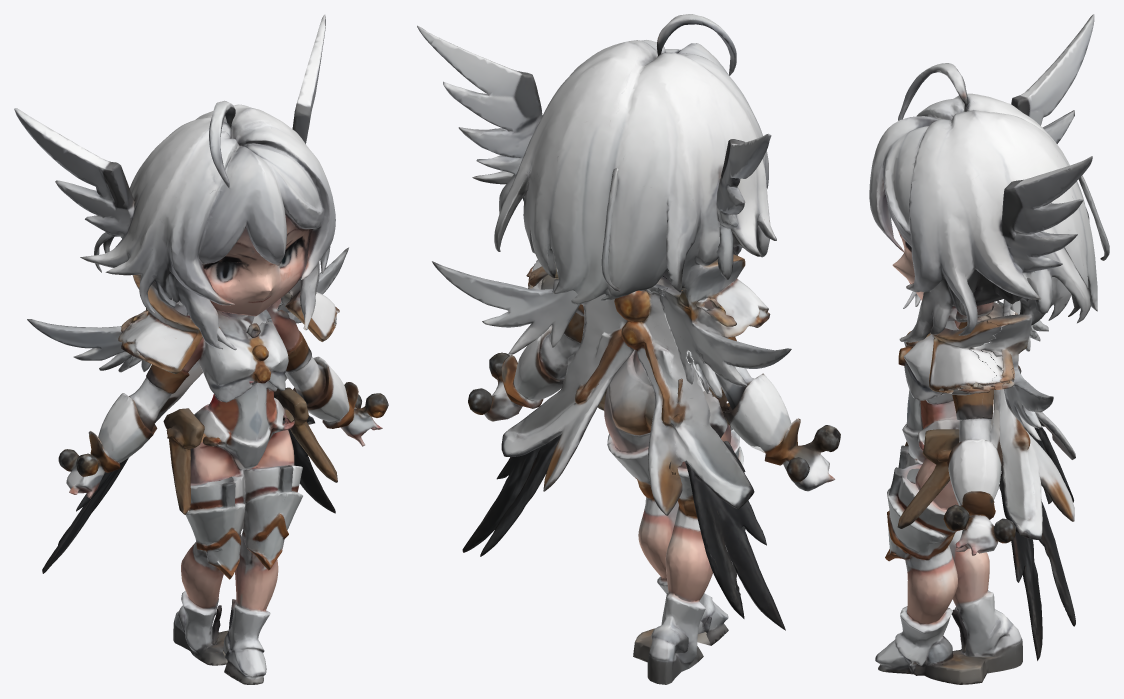
The model's file is Fan3cy_00118.glb.
3 views of the same model, side by side, from view 1: azimuth 30°, elevation 25°; view 2: azimuth 150°, elevation 25°; view 3: azimuth 270°, elevation 25° (orthographic). The views are drawn at different scales.
Parts seen in each view (by area): view 1: world; view 2: world; view 3: world.
Part boxes in pixels (box(x1,y1,x2,y2)): world: box(14, 14, 388, 684); world: box(417, 14, 840, 684); world: box(869, 14, 1109, 684).
Bounding box in the file's own units: 0.5986 × 0.9999 × 0.3628.
1 material, 1 textured.
